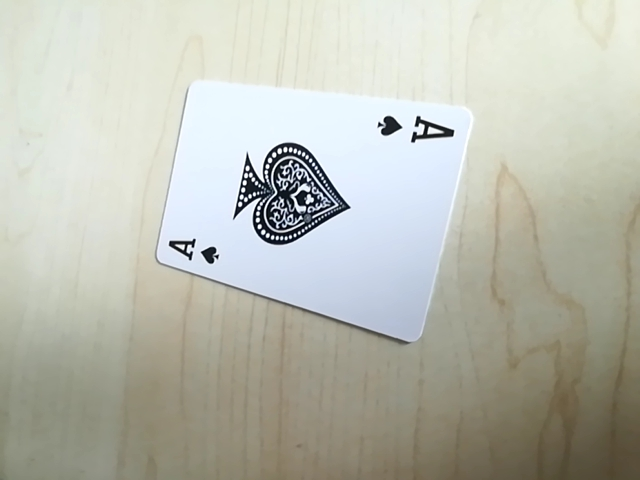ht a: (370, 109, 460, 151), (159, 232, 226, 270)
